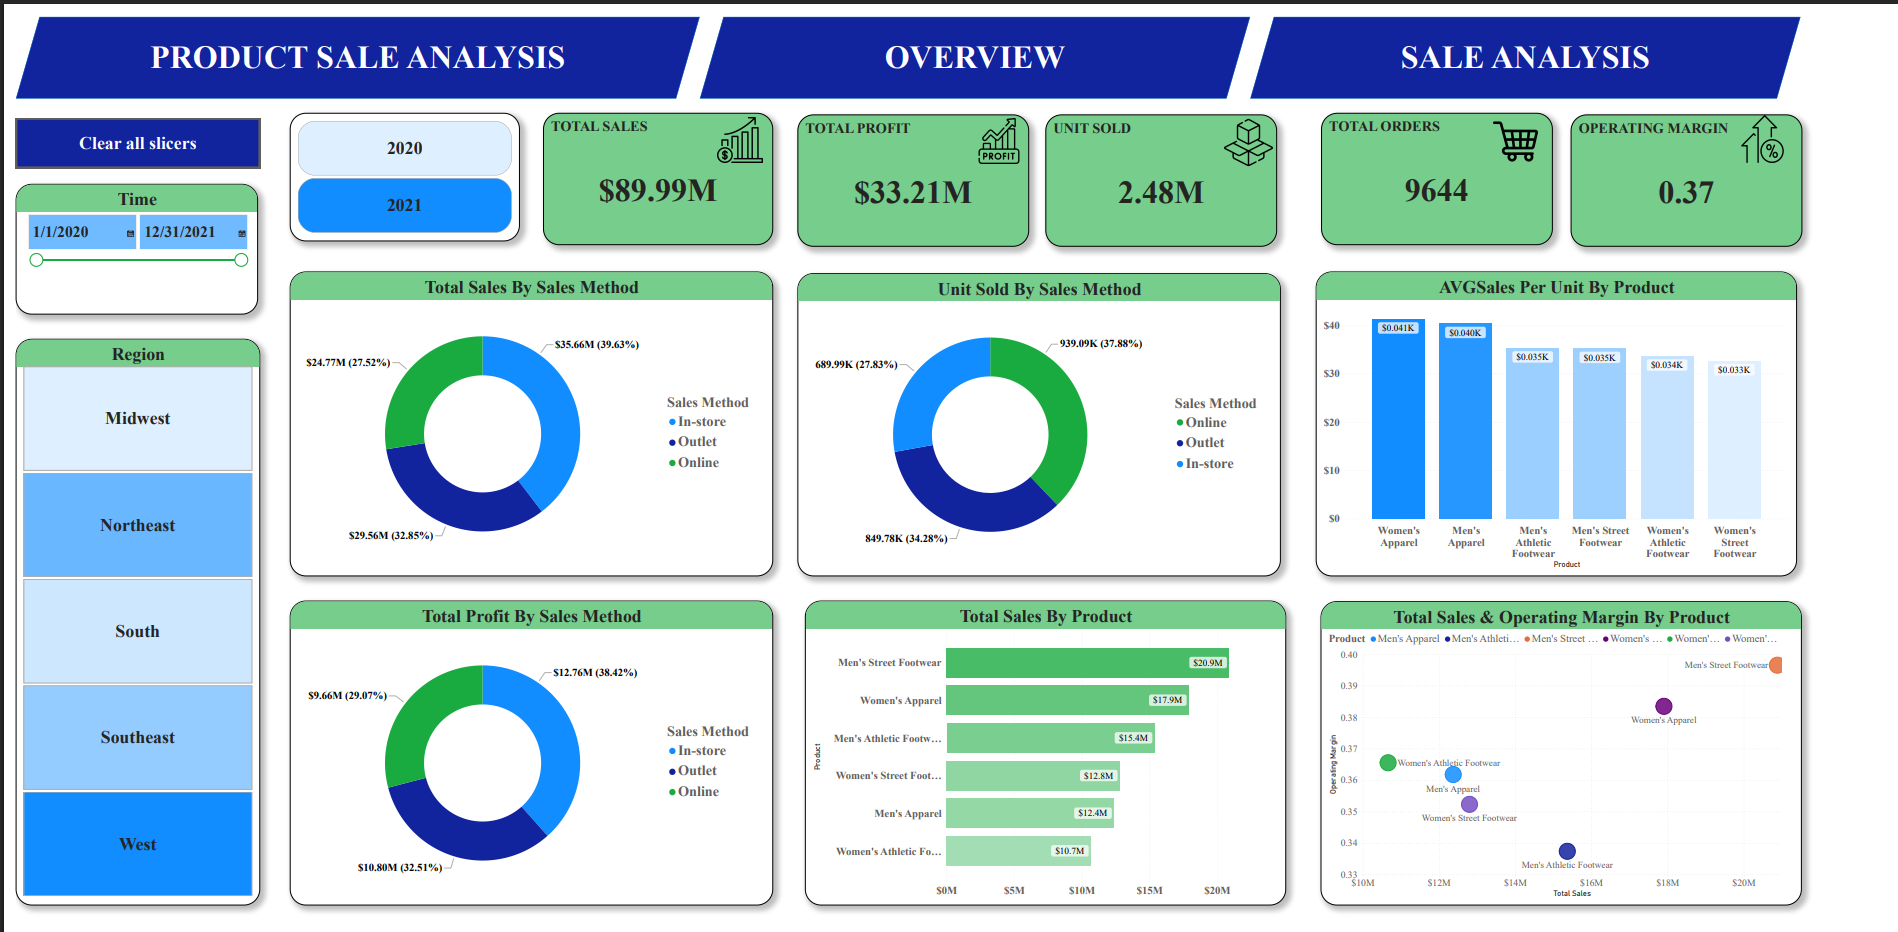

This screenshot's page, from the dashboard's own definition file:
{"tool":"powerbi","page":{"name":"SALE ANALYSIS","canvas":[3500,1700],"ordinal":1},"visuals":[{"type":"shape","box":[0,0,1280,153.3],"z":0},{"type":"card","title":"TOTAL SALES","fields":{"Values":["Measures..Total Sales"]},"box":[986.7,180,430,246.7],"z":1000,"group":"g1"},{"type":"donutChart","title":"Total Sales By Sales Method","fields":{"Y":["Measures..Total Sales"],"Category":["dim_Sales_Channel.Sales Method"]},"box":[513.3,476.7,903.3,570],"z":1000},{"type":"card","title":"TOTAL PROFIT","fields":{"Values":["Measures..Total Profit"]},"box":[1463.3,183.3,433.3,246.7],"z":2000,"group":"g2"},{"type":"advancedSlicerVisual","title":"Region","fields":{"Values":["dim_Region.Region"]},"box":[0,603.3,456.7,1060],"z":2000},{"type":"advancedSlicerVisual","title":"Region","fields":{"Values":["SportProducts.Invoice Date.Variation.Date Hierarchy.Year"]},"box":[513.3,180,430,240],"z":3000},{"type":"card","title":"UNIT SOLD","fields":{"Values":["Measures..Unit Sold"]},"box":[1926.7,183.3,433.3,246.7],"z":3000,"group":"g3"},{"type":"card","title":"TOTAL ORDERS","fields":{"Values":["Measures..Total Orders"]},"box":[2443.3,180,433.3,246.7],"z":4000,"group":"g4"},{"type":"card","title":"OPERATING MARGIN","fields":{"Values":["Measures..Profit Margin"]},"box":[2910,183.3,433.3,246.7],"z":4000,"group":"g5"},{"type":"actionButton","box":[0,190,456.7,93.3],"z":4000},{"type":"shape","box":[1280,0,1030,153.3],"z":5000},{"type":"shape","box":[2310,0,1030,153.3],"z":6000},{"type":"donutChart","title":"Total Profit By Sales Method","fields":{"Y":["Measures..Total Profit"],"Category":["dim_Sales_Channel.Sales Method"]},"box":[513.3,1093.3,903.3,570],"z":7000},{"type":"donutChart","title":"Unit Sold By Sales Method","fields":{"Category":["dim_Sales_Channel.Sales Method"],"Y":["Measures..Unit Sold"]},"box":[1463.3,480,903.3,566.7],"z":8000},{"type":"clusteredBarChart","title":"Total Sales By Product","fields":{"Category":["dim_Product.Product"],"Y":["Measures..Total Sales"]},"box":[1476.7,1093.3,900,570],"z":9000},{"type":"clusteredColumnChart","title":"AVGSales Per Unit By Product","fields":{"Category":["dim_Product.Product"],"Y":["Measures..AVGSales Per Unit"]},"box":[2433.3,476.7,900,570],"z":10000},{"type":"slicer","title":"Time","fields":{"Values":["SportProducts.Invoice Date"]},"box":[0,313.3,453.3,243.3],"z":11000},{"type":"card","title":"TOTAL ORDERS","fields":{"Values":["Measures..Profit Margin"]},"box":[2848.8,1255.9,432.4,244.8],"z":12000},{"type":"scatterChart","title":"Total Sales & Operating Margin By Product","fields":{"X":["Measures..Total Sales"],"Y":["Measures..Profit Margin"],"Series":["dim_Product.Product"]},"box":[2441.9,1093.8,899.8,569.1],"z":13000},{"type":"group","id":"g1","title":"Group 1","box":[986.7,180,430,246.7],"z":14000},{"type":"group","id":"g2","title":"Group 2","box":[1463.3,183.3,433.3,246.7],"z":15000},{"type":"image","box":[1293.4,183.3,123.3,93.3],"z":16000,"group":"g1"},{"type":"group","id":"g3","title":"Group 3","box":[1926.7,183.3,466.7,246.7],"z":16000},{"type":"group","id":"g4","title":"Group 4","box":[2443.3,180,433.3,246.7],"z":17000},{"type":"image","box":[1783.3,186.6,113.3,93.3],"z":17000,"group":"g2"},{"type":"group","id":"g5","title":"Group 5","box":[2910,180,433.3,250],"z":18000},{"type":"image","box":[2220,186.6,173.3,100],"z":18000,"group":"g3"},{"type":"image","box":[2736.6,186.7,140,93.3],"z":19000,"group":"g4"},{"type":"image","box":[3193.3,180,150,96.7],"z":22005,"group":"g5"}]}

Visuals, with their boxes in screenshot pixels (x1, y1, x2, y2), scaled from the page's 3500x1700 canvas onto the 1898x932 screenshot:
shape: [0,0,694,84]
"TOTAL SALES" card: [535,99,768,234]
"Total Sales By Sales Method" donutChart: [278,261,768,574]
"TOTAL PROFIT" card: [794,100,1028,236]
"Region" advancedSlicerVisual: [0,331,248,912]
"Region" advancedSlicerVisual: [278,99,512,230]
"UNIT SOLD" card: [1045,100,1280,236]
"TOTAL ORDERS" card: [1325,99,1560,234]
"OPERATING MARGIN" card: [1578,100,1813,236]
actionButton: [0,104,248,155]
shape: [694,0,1253,84]
shape: [1253,0,1811,84]
"Total Profit By Sales Method" donutChart: [278,599,768,912]
"Unit Sold By Sales Method" donutChart: [794,263,1283,574]
"Total Sales By Product" clusteredBarChart: [801,599,1289,912]
"AVGSales Per Unit By Product" clusteredColumnChart: [1320,261,1808,574]
"Time" slicer: [0,172,246,305]
"TOTAL ORDERS" card: [1545,689,1779,823]
"Total Sales & Operating Margin By Product" scatterChart: [1324,600,1812,912]
"Group 1" group: [535,99,768,234]
"Group 2" group: [794,100,1028,236]
image: [701,100,768,152]
"Group 3" group: [1045,100,1298,236]
"Group 4" group: [1325,99,1560,234]
image: [967,102,1028,153]
"Group 5" group: [1578,99,1813,236]
image: [1204,102,1298,157]
image: [1484,102,1560,154]
image: [1732,99,1813,152]
